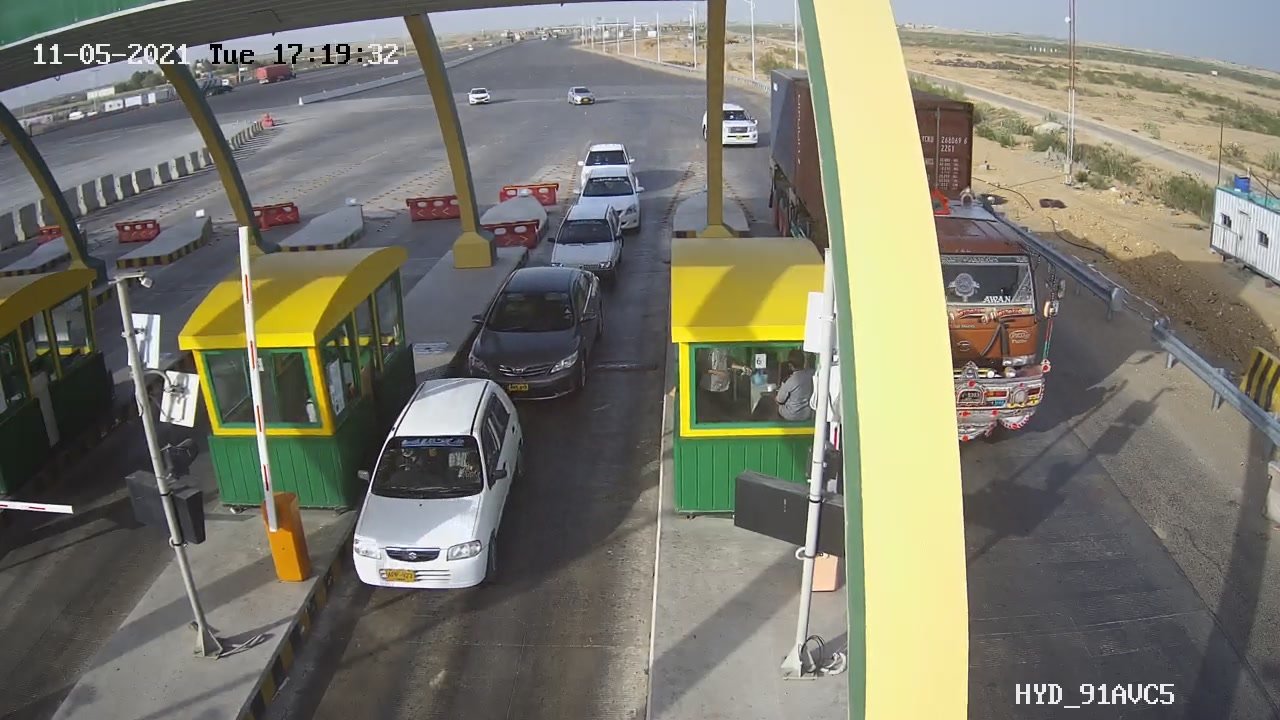F1: (331, 365, 550, 604), (453, 251, 618, 413), (533, 195, 640, 296)
